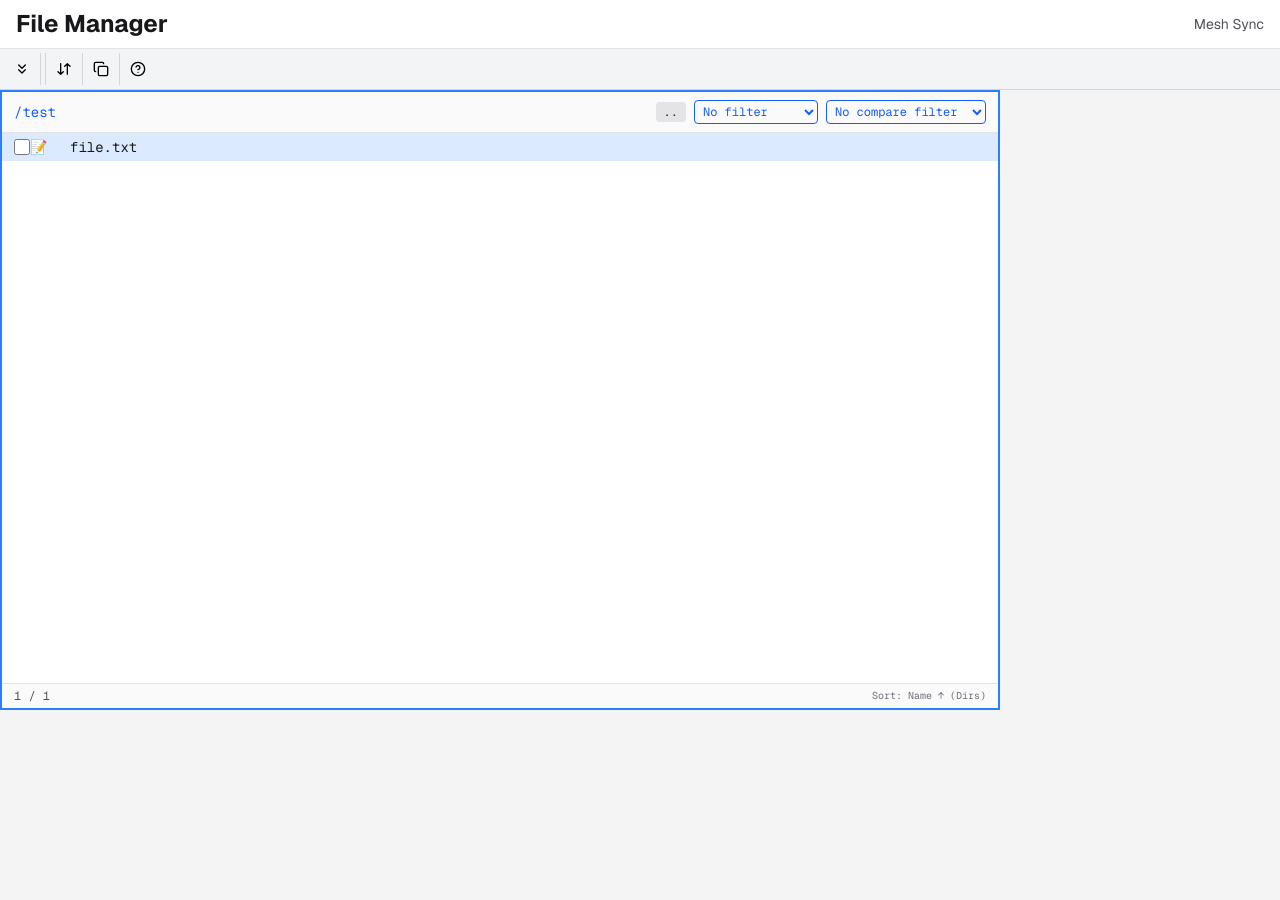
Test: [REQ-TOOLBAR_SYSTEM] IMPL-TOOLBAR_COMPONENT_WorkspaceToolbarDisplayMode › expands to three top toolbars with keystroke badges when toggled once
Step 1. Click the button with test id "toolbar-compact-toggle" → (22, 69), box [8, 57, 36, 81]
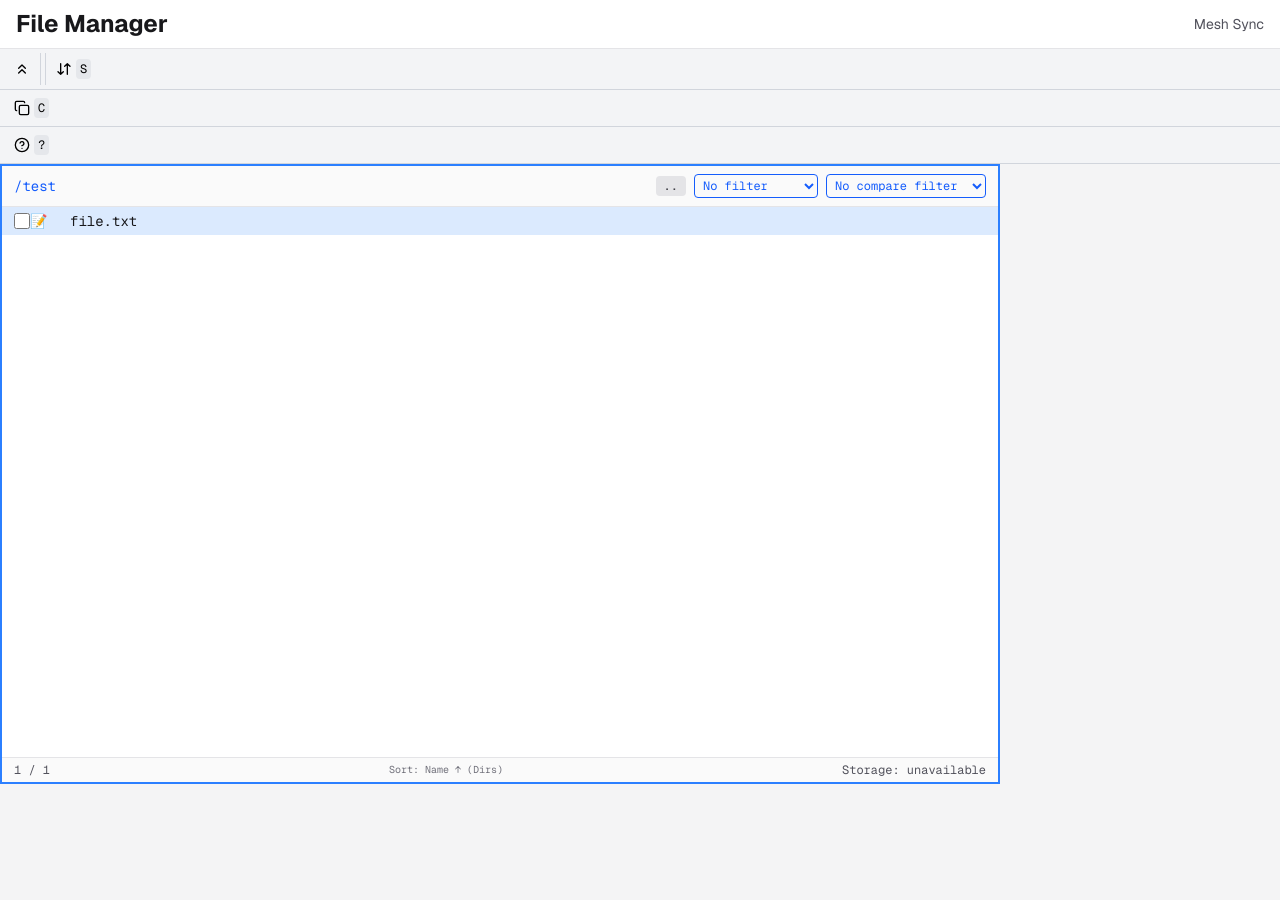
Result: the text "S" is shown at [76, 59, 91, 79]
